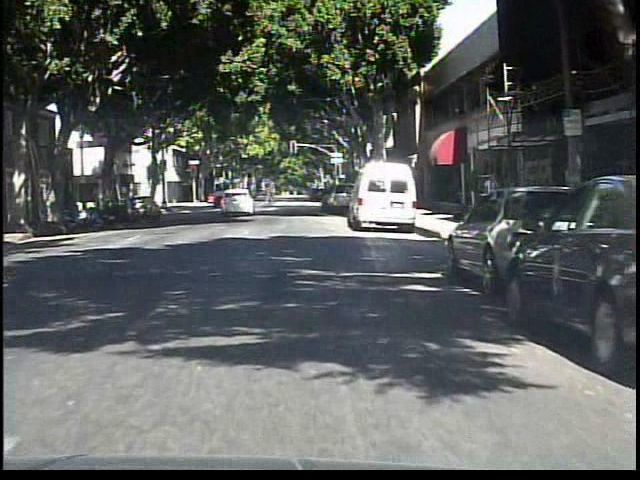person: (478, 166, 504, 225), (261, 179, 281, 213)
